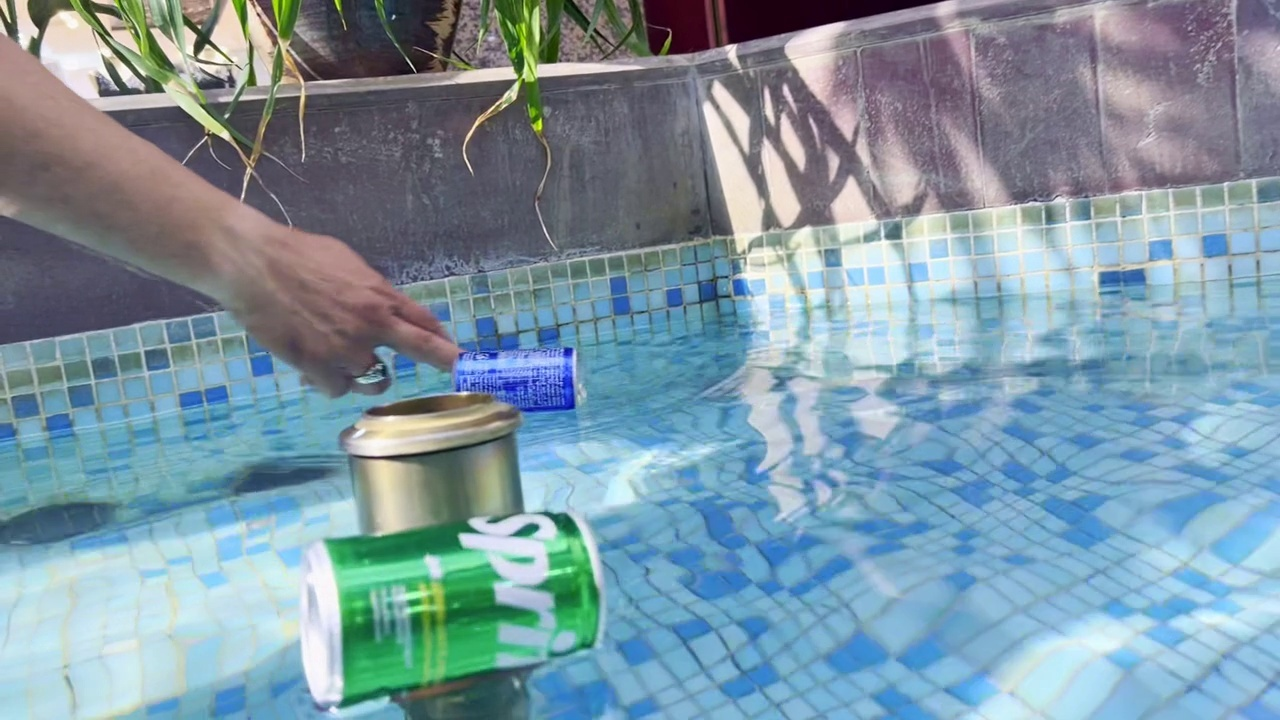debris: (279, 507, 607, 720), (441, 330, 591, 420)
